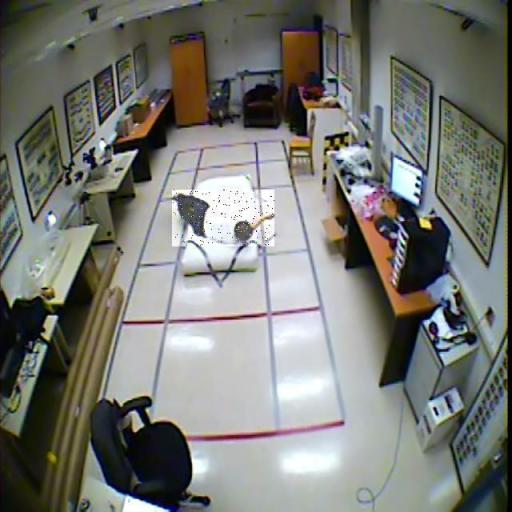Fall: (172, 190, 274, 247)
